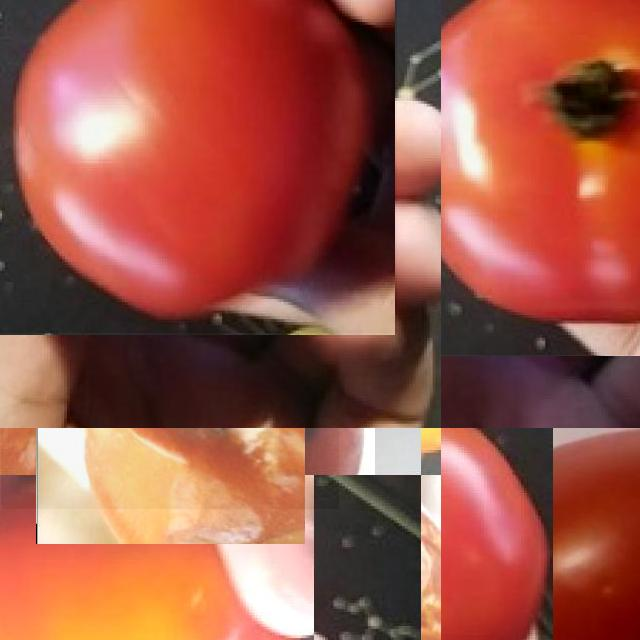0: (0, 475, 313, 640)
1: (1, 428, 339, 509)
Fresh Tomato: (0, 0, 397, 333), (441, 0, 640, 354), (553, 428, 640, 640)
